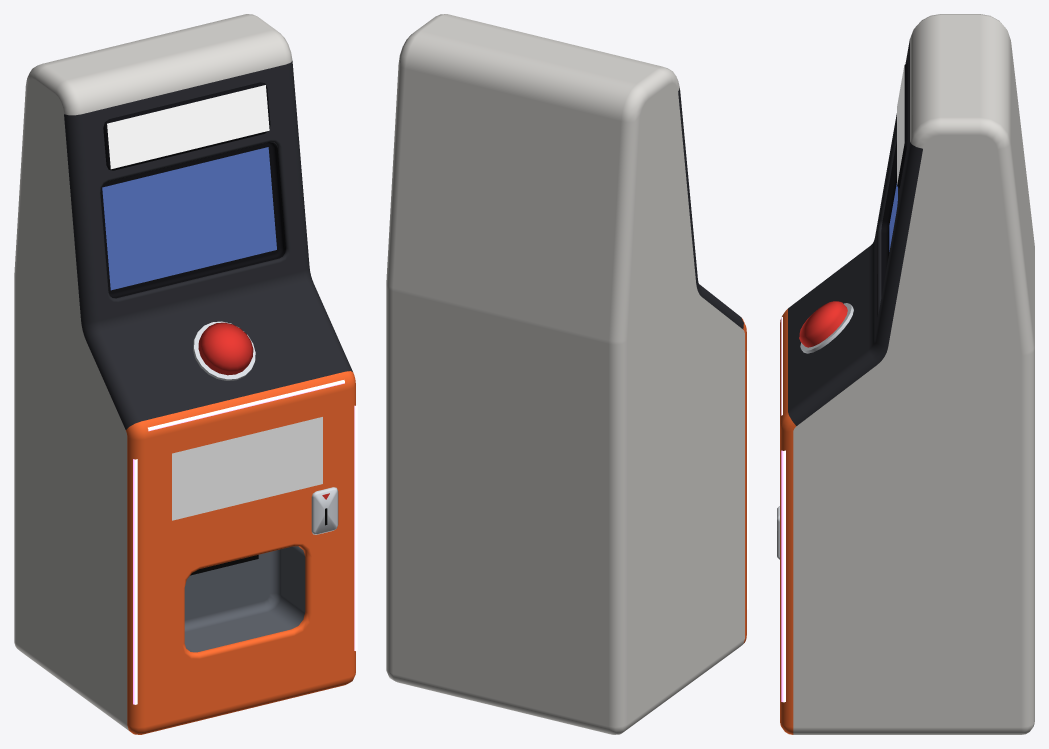
File: jari_cabinet.glb
3 renders of one model, left to right at view 1: azimuth 30°, elevation 25°; view 2: azimuth 150°, elevation 25°; view 3: azimuth 270°, elevation 25°, orthographic. The views are drawn at different scales.
Parts seen in each view (by area): view 1: Shell, ShellFront, ShellFace, ShellDeck, Screen, FrontDecal, PayoutPocket, TopperLogo, MonitorRecess, ButtonCap, PopPlate, LED_Body_L (+4 smaller); view 2: Shell, ShellFront, ShellFace; view 3: Shell, ShellDeck, ShellFace, ShellFront, ButtonCap, LED_Body_R, MonitorRecess, TopperLogo, PopPlate, ButtonRing.
Part boxes in pixels (x1=…): Shell: x1=14, y1=14, x2=292, y2=731; ShellFront: x1=126, y1=371, x2=355, y2=734; ShellFace: x1=64, y1=61, x2=313, y2=340; ShellDeck: x1=86, y1=282, x2=352, y2=429; Screen: x1=102, y1=147, x2=276, y2=290; FrontDecal: x1=172, y1=417, x2=322, y2=520; PayoutPocket: x1=184, y1=546, x2=305, y2=652; TopperLogo: x1=107, y1=85, x2=269, y2=169; MonitorRecess: x1=100, y1=142, x2=285, y2=298; ButtonCap: x1=198, y1=322, x2=253, y2=375; PopPlate: x1=103, y1=82, x2=270, y2=170; LED_Body_L: x1=133, y1=459, x2=137, y2=704; Shell: x1=386, y1=14, x2=744, y2=734; ShellFront: x1=742, y1=318, x2=746, y2=643; ShellFace: x1=678, y1=88, x2=702, y2=296; Shell: x1=793, y1=14, x2=1034, y2=734; ShellDeck: x1=788, y1=246, x2=876, y2=425; ShellFace: x1=868, y1=39, x2=922, y2=364; ShellFront: x1=780, y1=308, x2=796, y2=734; ButtonCap: x1=799, y1=301, x2=847, y2=347; LED_Body_R: x1=781, y1=450, x2=785, y2=702; MonitorRecess: x1=881, y1=140, x2=896, y2=296; TopperLogo: x1=897, y1=64, x2=904, y2=184; PopPlate: x1=897, y1=63, x2=907, y2=188; ButtonRing: x1=800, y1=303, x2=853, y2=353.
Bounding box in the file's own units: 0.6 × 1.52 × 0.5762.
